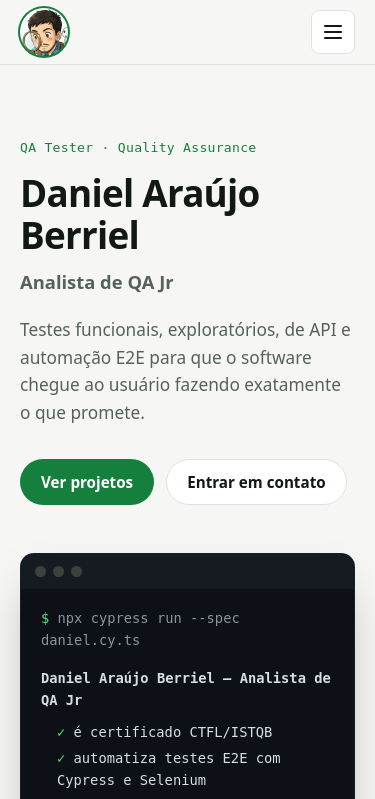
Test: Menu mobile › abre o menu, navega até a seção e fecha automaticamente
Click the button with test id "menu-toggle". click: (333, 32)
box: x1=311 y1=10 x2=355 y2=54
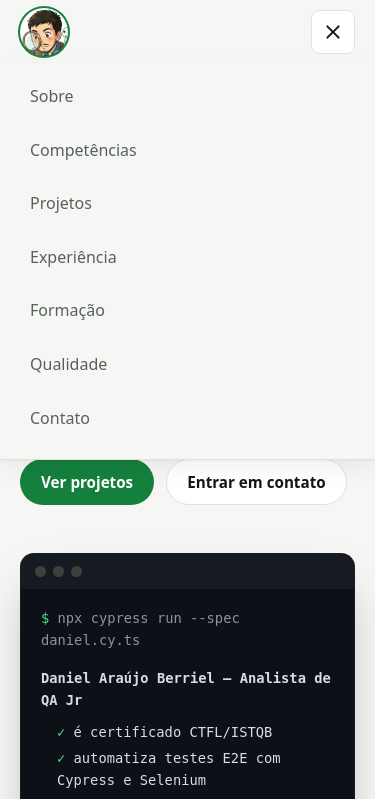
Now the navigation bar with test id "nav" is shown, box x1=0 y1=64 x2=374 y2=460
Click the link "Contato". click: (60, 418)
box: x1=30 y1=407 x2=90 y2=429
(page scrolled)
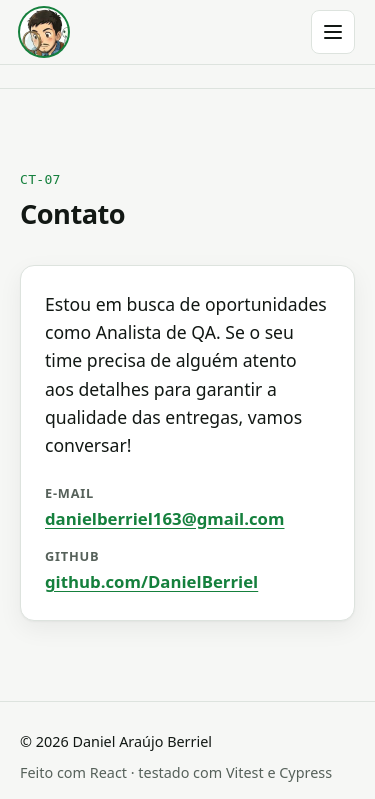
Now the navigation bar with test id "nav" is gone
Now the button with test id "menu-toggle" is collapsed, box x1=311 y1=10 x2=355 y2=54
